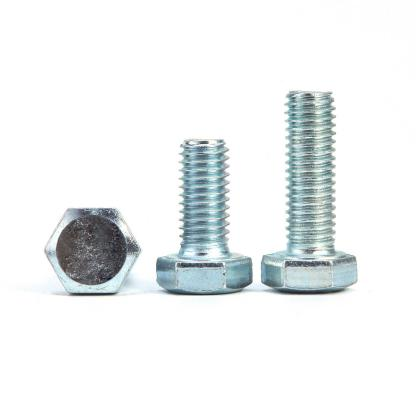FOD: (258, 89, 361, 295), (154, 137, 256, 297), (40, 204, 142, 299)
